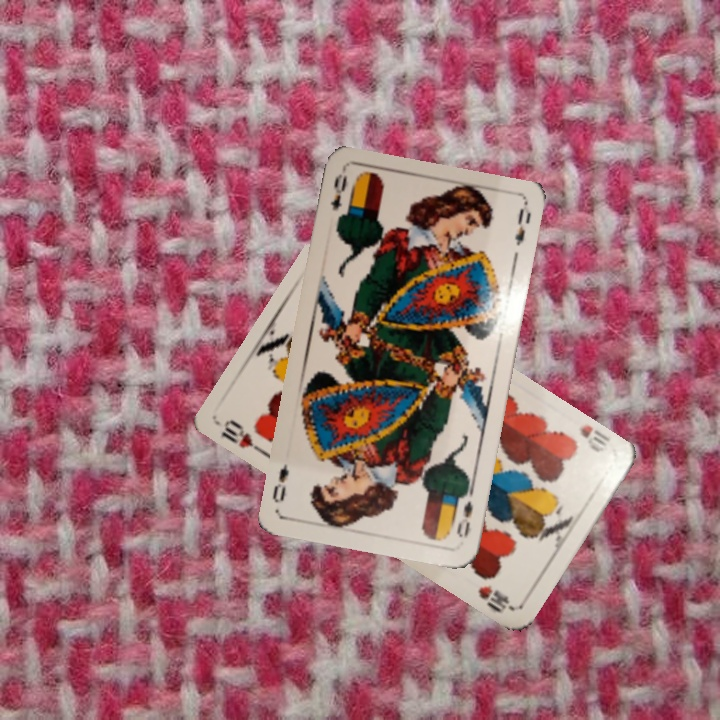EO: (450, 487, 476, 540), (327, 170, 350, 214)
H10: (217, 415, 268, 457), (575, 420, 612, 455)
